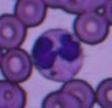N: (32, 28, 84, 82)
